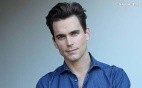male: (42, 1, 94, 63)
